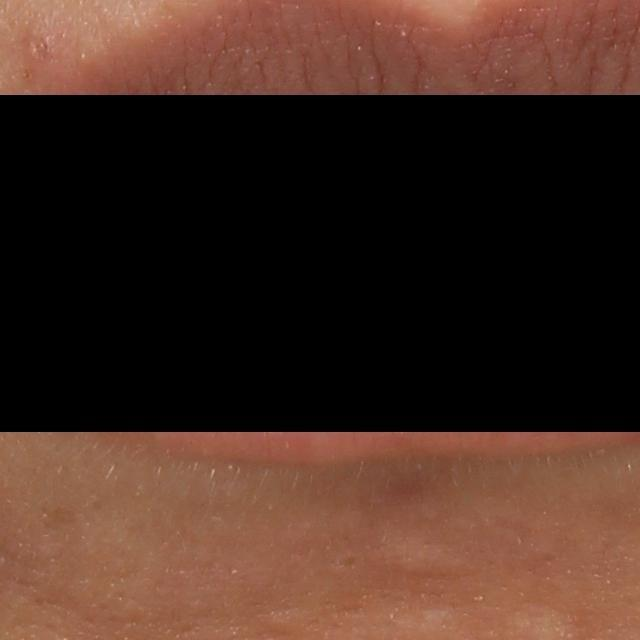hypertrophic_scar: (369, 533, 487, 582)
papule: (20, 28, 61, 74)
